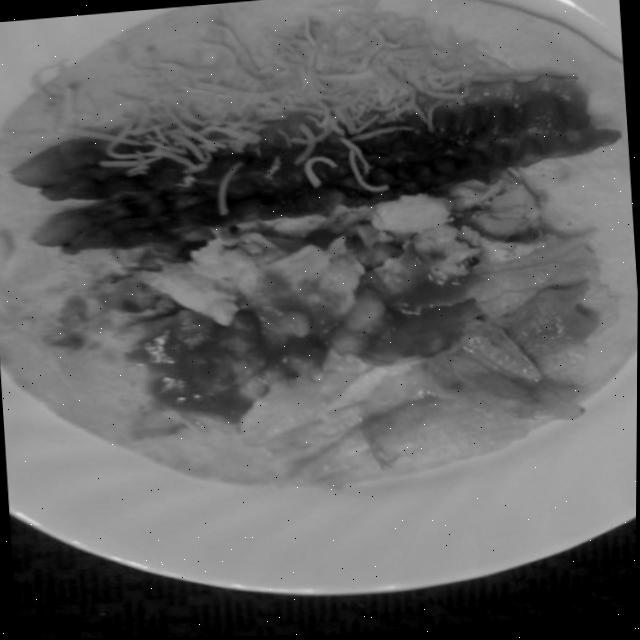面包点心: (0, 24, 640, 543)
